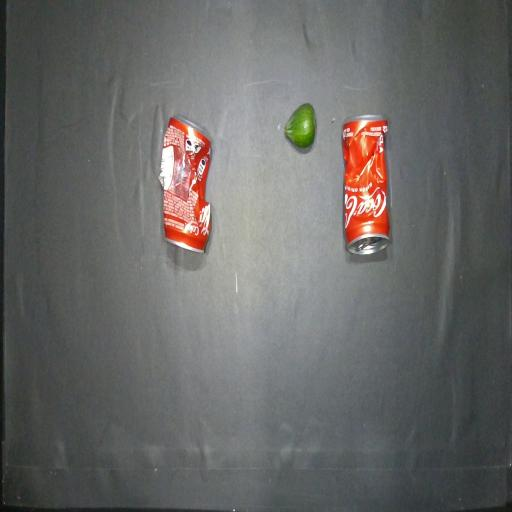higo: (285, 103, 316, 148)
lata_defectuoso: (159, 118, 211, 252), (342, 115, 390, 254)
